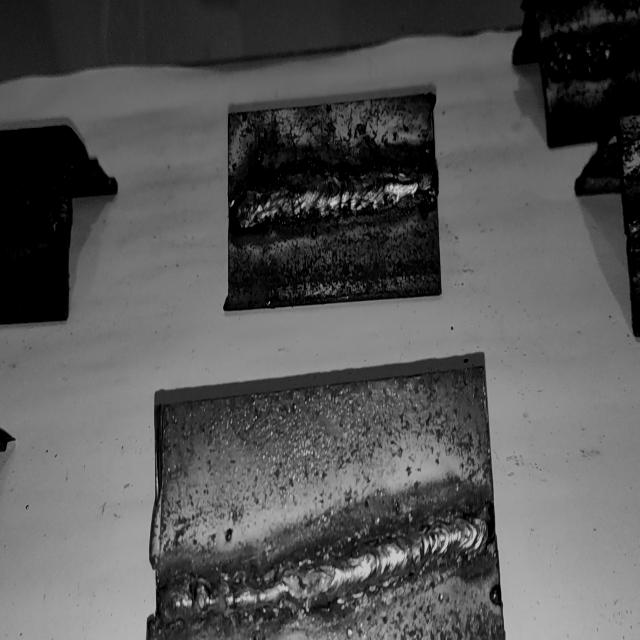Bad Weld: (161, 502, 495, 627), (540, 24, 640, 79), (0, 189, 72, 234)
Defect: (161, 576, 295, 628), (547, 36, 640, 72), (0, 198, 72, 234)
Good Weld: (232, 157, 438, 228)
